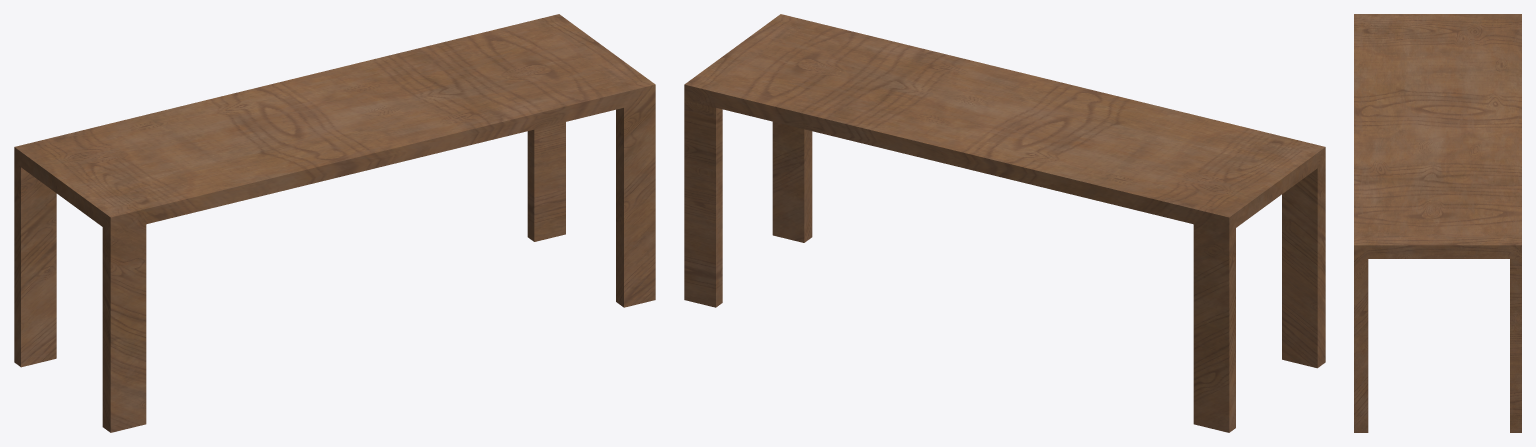
The model's file is mesa_entrada.fbx.
3 views of the same model, side by side, from view 1: azimuth 30°, elevation 25°; view 2: azimuth 150°, elevation 25°; view 3: azimuth 270°, elevation 25° (orthographic). The views are drawn at different scales.
Parts seen in each view (by area): view 1: mesa_entrada; view 2: mesa_entrada; view 3: mesa_entrada.
Part boxes in pixels (<box>): mesa_entrada: <box>14,14,655,432</box>; mesa_entrada: <box>684,14,1325,432</box>; mesa_entrada: <box>1354,14,1521,432</box>.
Bounding box in the file's own units: 390 × 147 × 119.
